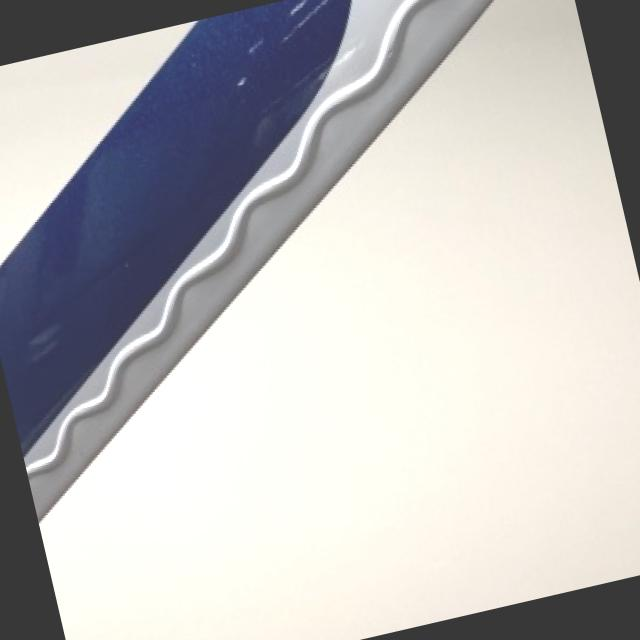healthy: (42, 0, 640, 640)
